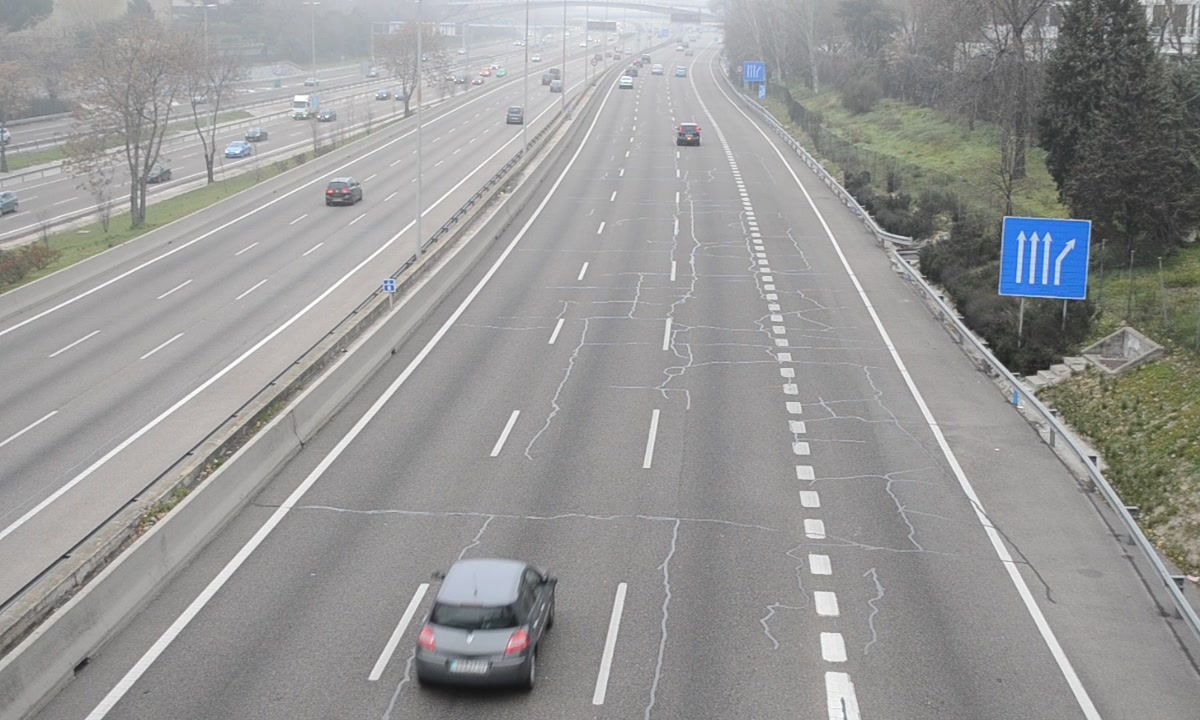car: (416, 560, 557, 689), (676, 121, 701, 145)
